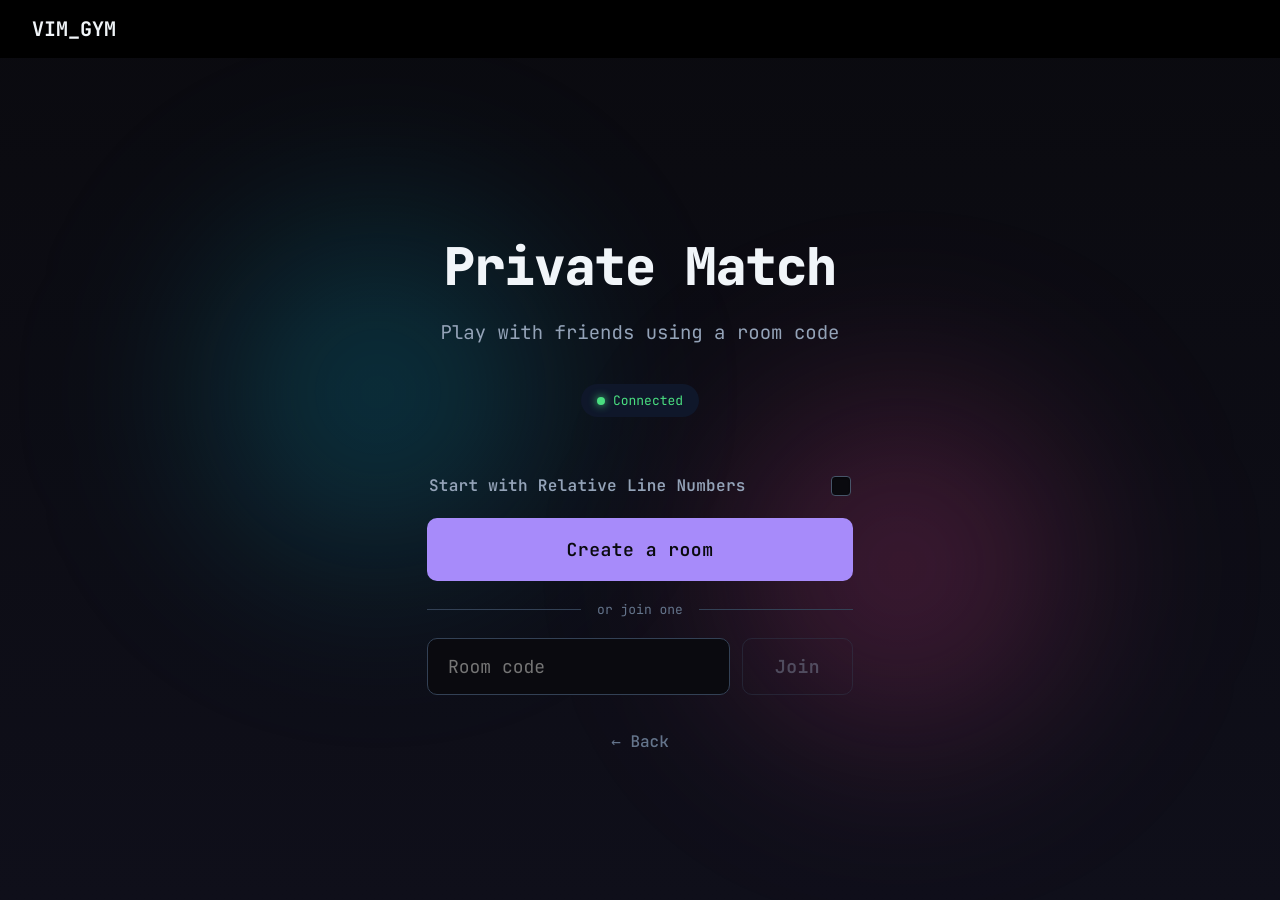
it: Lobby private match › shows the room code field up front, with Join disabled until a code is typed
Expected: the button "Join" is disabled, [742,638,853,695]
Type "ABC123" into the field labelled "Room code" at coordinates (578, 667), box [427,638,730,695]
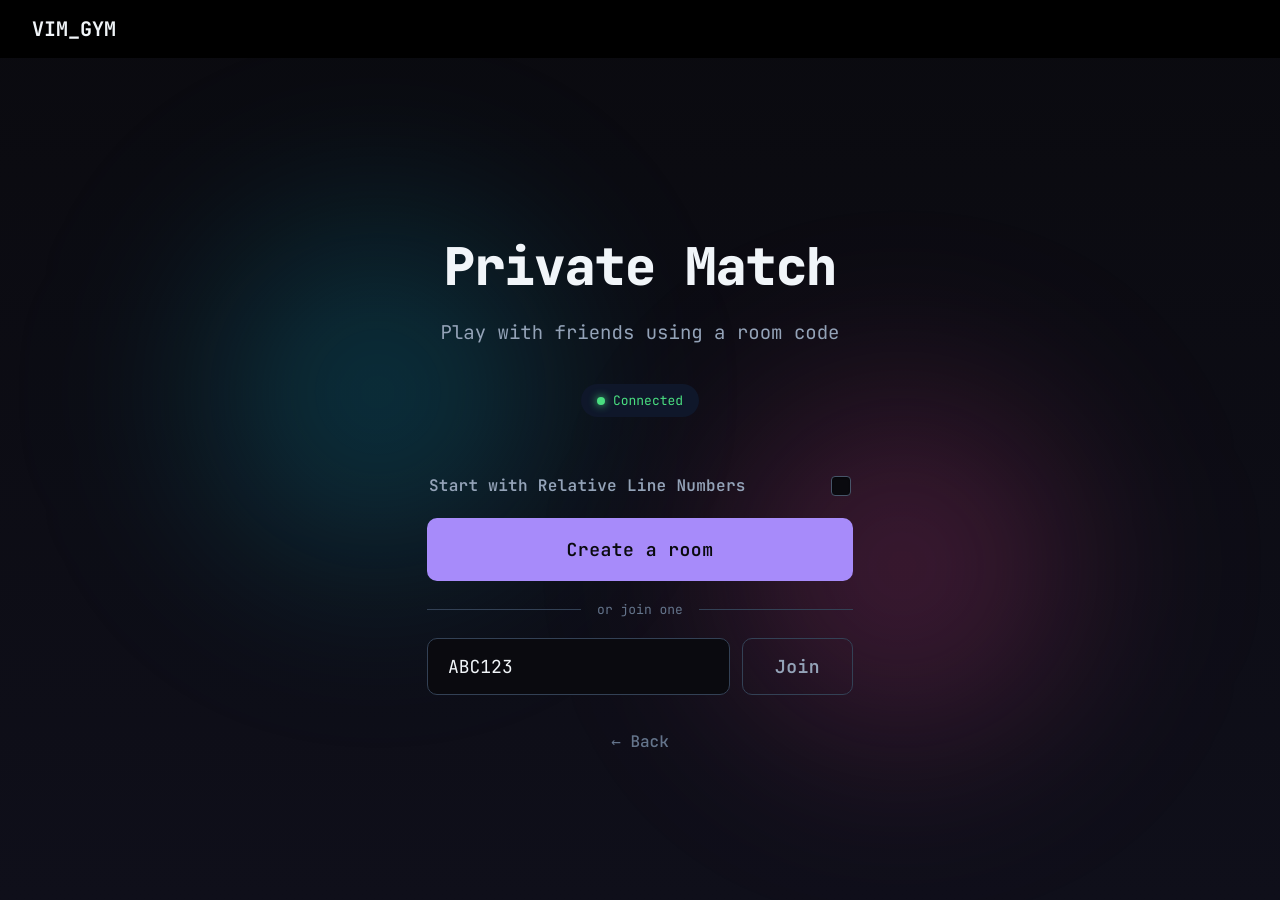
Expected: the button "Join" is enabled, [742,638,853,695]
